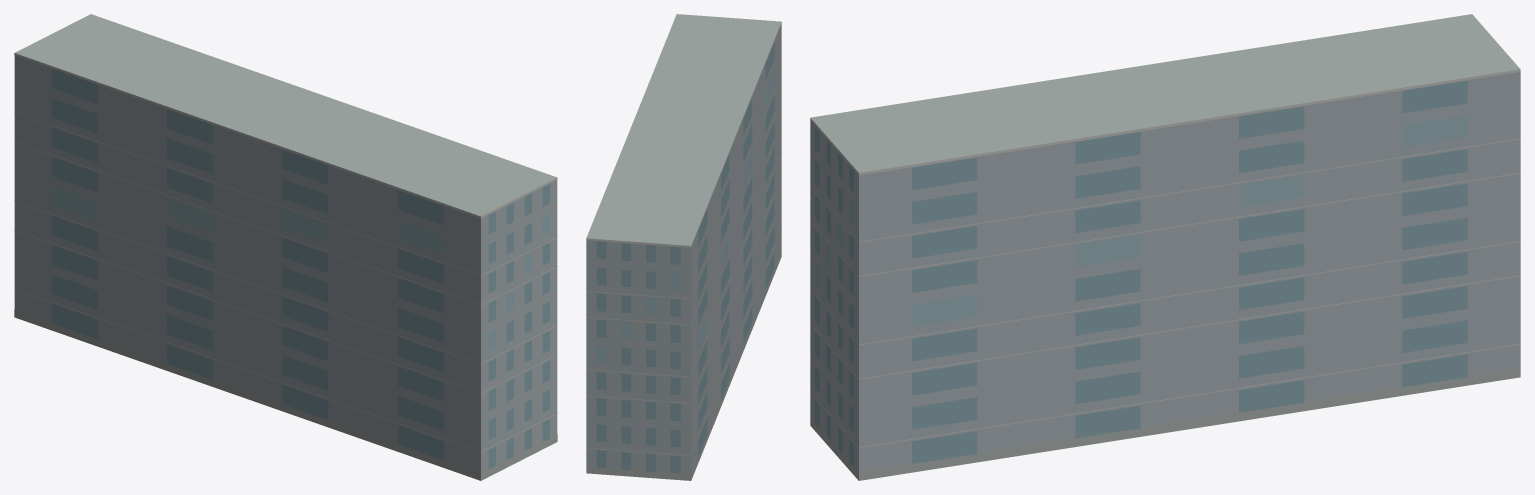
Rendered from residential-ca6bcbd1-d0c6-4db2-9028-ddbc89778589.glb.
The picture shows the model from 3 angles, left to right: view 1: azimuth 30°, elevation 25°; view 2: azimuth 150°, elevation 25°; view 3: azimuth 270°, elevation 25°; orthographic projection. The views are drawn at different scales.
Visible parts, largest first — view 1: residential-ca6bcbd1-d0c6-4db2-9028-ddbc89778589.tmp; view 2: residential-ca6bcbd1-d0c6-4db2-9028-ddbc89778589.tmp; view 3: residential-ca6bcbd1-d0c6-4db2-9028-ddbc89778589.tmp.
Part boxes in pixels (x1,y1,x2,y2): residential-ca6bcbd1-d0c6-4db2-9028-ddbc89778589.tmp: (14, 14, 557, 480); residential-ca6bcbd1-d0c6-4db2-9028-ddbc89778589.tmp: (586, 14, 781, 480); residential-ca6bcbd1-d0c6-4db2-9028-ddbc89778589.tmp: (810, 14, 1520, 480).
Bounding box in the file's own units: 32.11 × 29 × 60.63.
